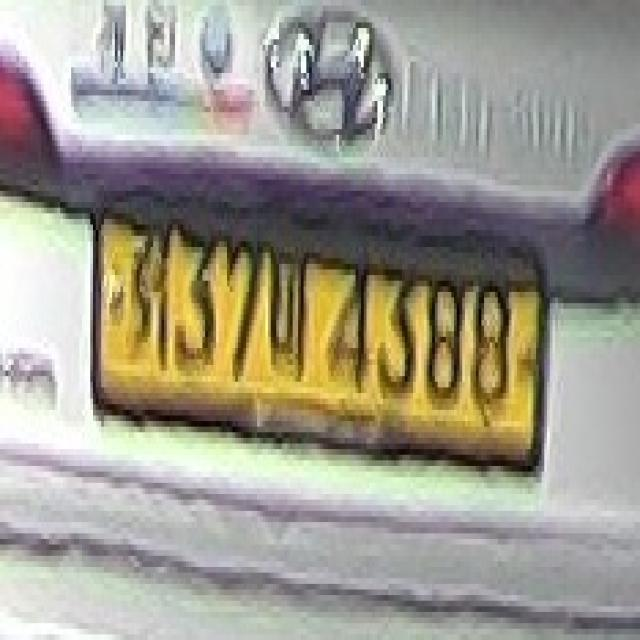plat: (92, 209, 548, 470)
